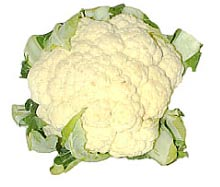cauliflower: (27, 15, 184, 155)
